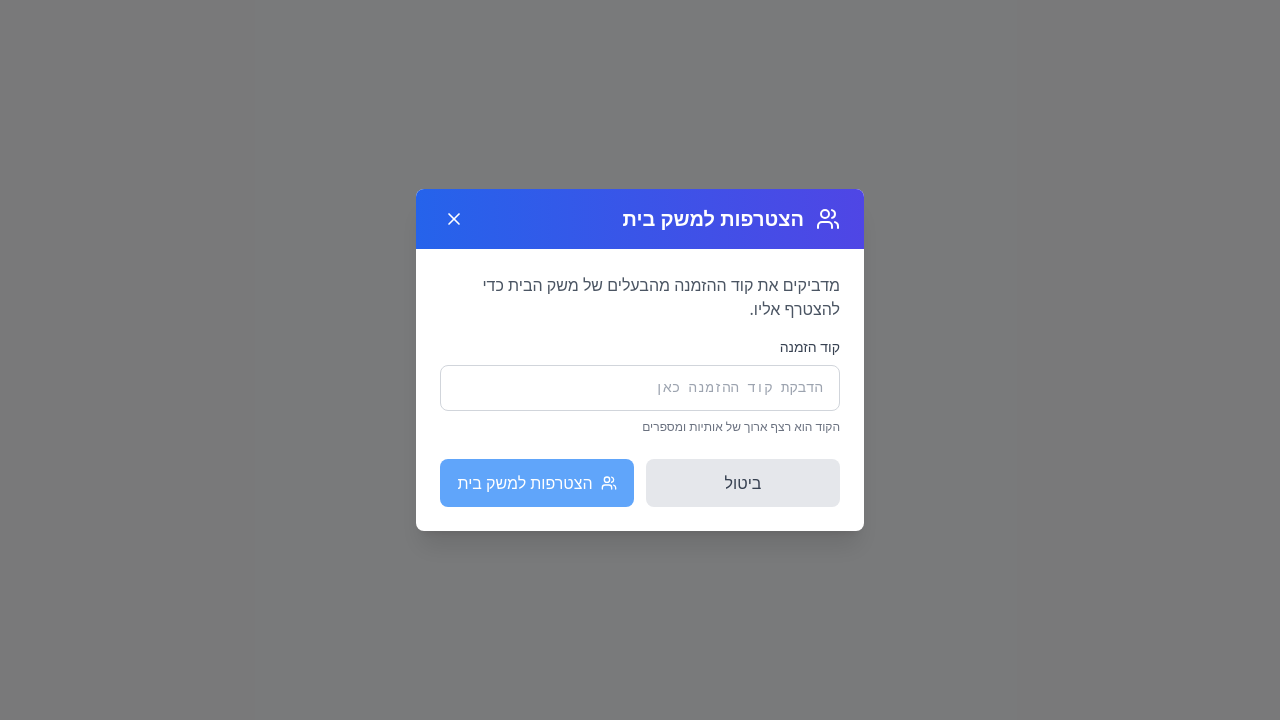
Test case: household windows in Hebrew › switching households warns in Hebrew and offers the guide's "delete data & join"
expect the heading "הצטרפות למשק בית" is shown: met, box [622,205,804,233]
Type "abc" into the field with placeholder "הדבקת קוד ההזמנה כאן".
click(640, 388); type("abc")  # box [440,365,840,411]
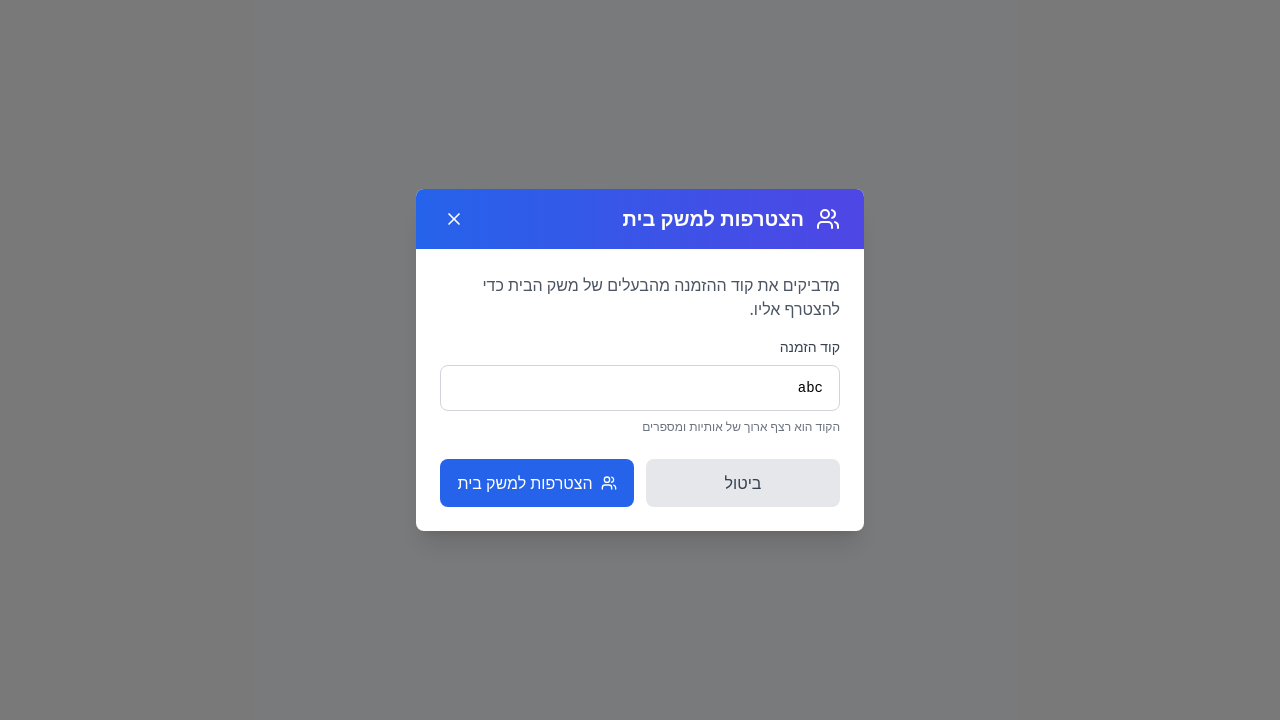
Click the button "הצטרפות למשק בית".
click(537, 483)  # box [440,459,634,507]
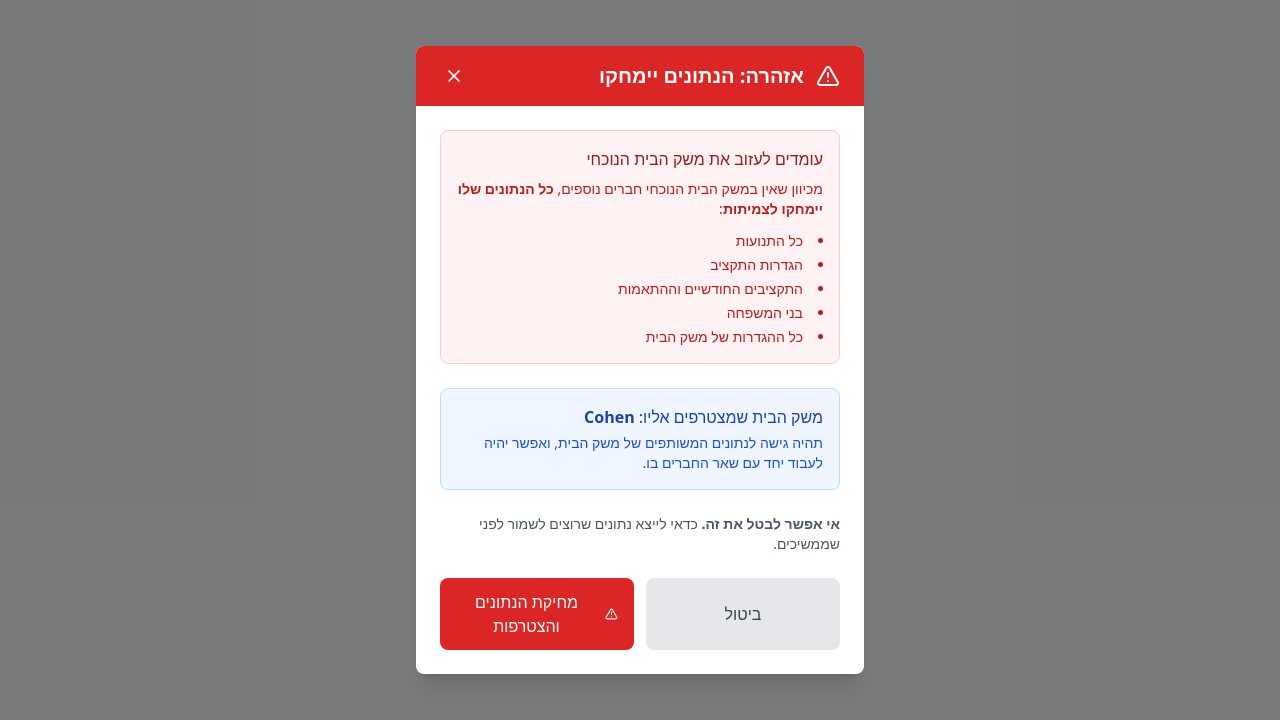
expect the button "מחיקת הנתונים והצטרפות" is shown: met, box [440,578,634,650]
